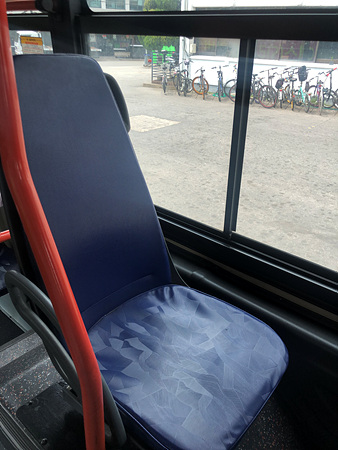seat: (11, 48, 288, 444)
